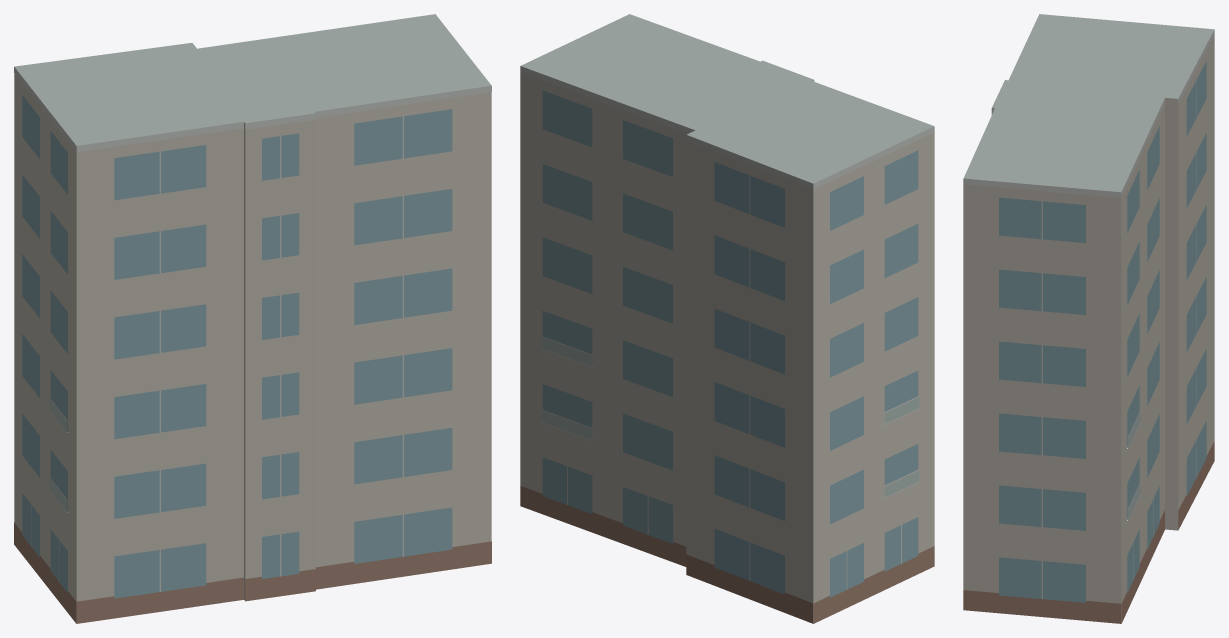
The model's file is survey-upis-32788404.glb.
The picture shows the model from 3 angles, left to right: view 1: azimuth 30°, elevation 25°; view 2: azimuth 150°, elevation 25°; view 3: azimuth 270°, elevation 25°; orthographic projection. The views are drawn at different scales.
Parts seen in each view (by area): view 1: survey-upis-32788404.tmp; view 2: survey-upis-32788404.tmp; view 3: survey-upis-32788404.tmp.
Boxes of the visible parts, x1,y1,x2,y2 form: survey-upis-32788404.tmp: [14, 14, 491, 623]; survey-upis-32788404.tmp: [520, 14, 934, 623]; survey-upis-32788404.tmp: [963, 14, 1214, 623].
Size of the model in its own units: 16.3 by 18.4 by 9.71.
